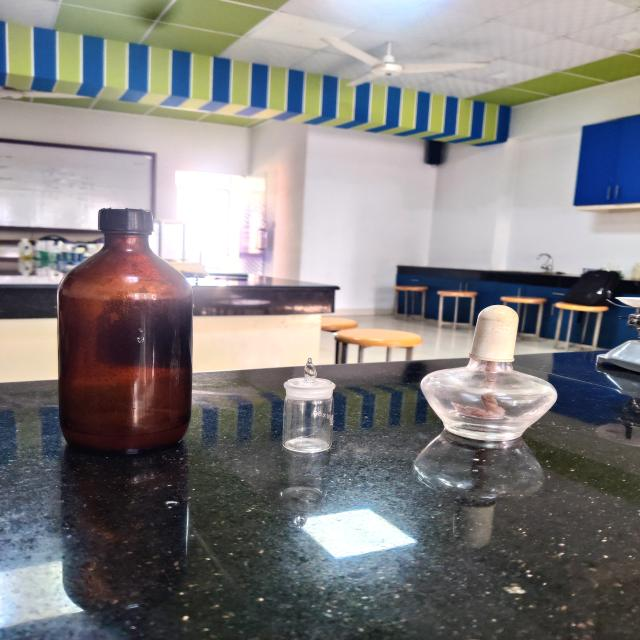Nessler_Reagent_Bottle: (30, 194, 228, 472)
Spirit_Lamp: (412, 288, 572, 462)
Weighing_Bottle: (271, 346, 358, 474)
